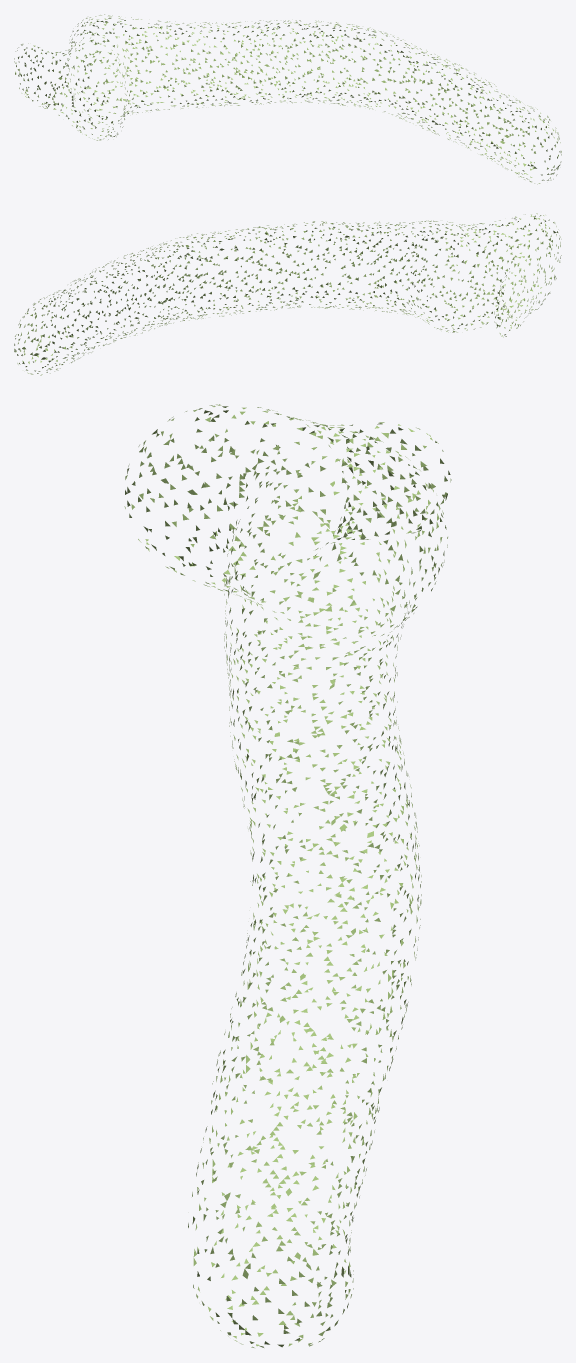
Rendered from morph_012.glb.
The picture shows the model from 3 angles, top to bottom: view 1: azimuth 30°, elevation 25°; view 2: azimuth 150°, elevation 25°; view 3: azimuth 270°, elevation 25°; orthographic projection. The views are drawn at different scales.
Bounding box in the file's own units: 127 × 60.95 × 35.96.
